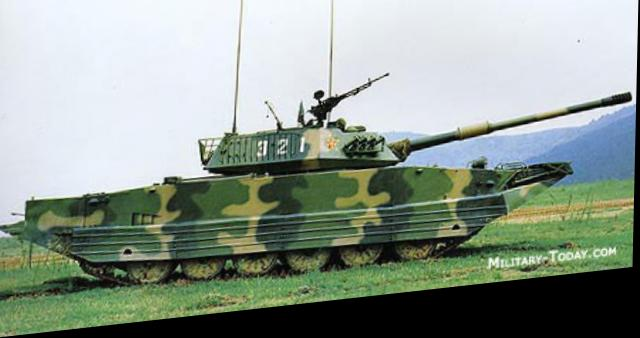tank: (7, 77, 570, 300)
